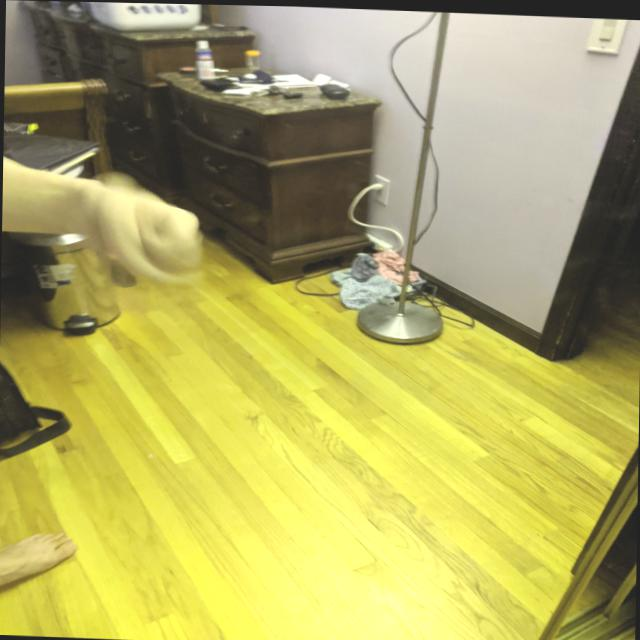J: (54, 161, 233, 345)
